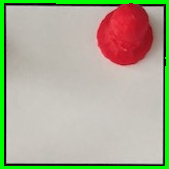Red Pawn: (94, 3, 156, 65)
